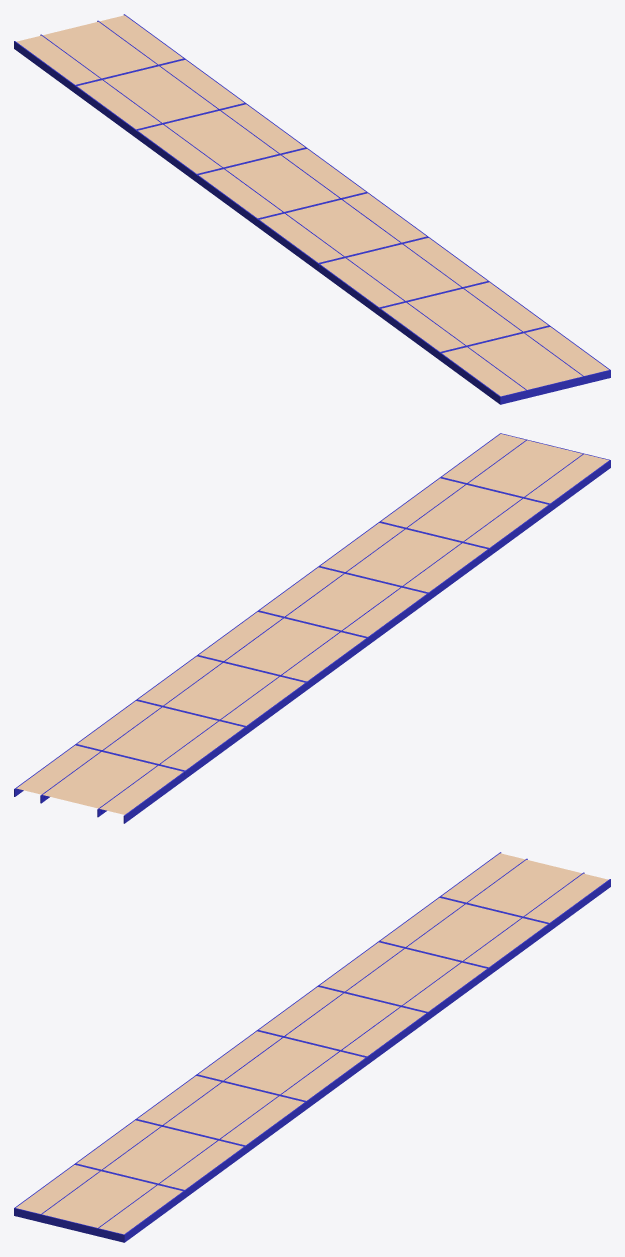
Rendered from bowling-alley-01.dae.
The picture shows the model from 3 angles, top to bottom: view 1: azimuth 30°, elevation 25°; view 2: azimuth 150°, elevation 25°; view 3: azimuth 330°, elevation 25°; orthographic projection.
Parts seen in each view (by area): view 1: group_8 (×3), group_6 (×3), group_10 (×3), group_7 (×3), group_11 (×3), group_9 (×3), group_12 (×3), group_13 (×3), group_3, group_1, group_5, group_2 (+1 smaller); view 2: group_8 (×3), group_13 (×3), group_10 (×3), group_12 (×3), group_6 (×3), group_7 (×3), group_11 (×3), group_9 (×3), group_3, group_4, group_2, group_5; view 3: group_8 (×3), group_6 (×3), group_10 (×3), group_7 (×3), group_11 (×3), group_9 (×3), group_12 (×3), group_13 (×3), group_5, group_1, group_4, group_2 (+1 smaller).
Boxes of the visible parts, x1=… form: group_8 (×3): x1=320, y1=238, x2=487, y2=307; group_6 (×3): x1=16, y1=15, x2=183, y2=84; group_10 (×3): x1=260, y1=193, x2=426, y2=262; group_7 (×3): x1=199, y1=149, x2=365, y2=218; group_11 (×3): x1=138, y1=104, x2=304, y2=173; group_9 (×3): x1=77, y1=60, x2=243, y2=129; group_12 (×3): x1=381, y1=282, x2=547, y2=351; group_13 (×3): x1=442, y1=327, x2=608, y2=396; group_3: x1=14, y1=41, x2=501, y2=404; group_1: x1=501, y1=370, x2=609, y2=404; group_5: x1=123, y1=14, x2=610, y2=377; group_2: x1=97, y1=20, x2=583, y2=376; group_8 (×3): x1=320, y1=523, x2=487, y2=592; group_13 (×3): x1=442, y1=434, x2=608, y2=503; group_10 (×3): x1=260, y1=567, x2=426, y2=636; group_12 (×3): x1=381, y1=478, x2=547, y2=547; group_6 (×3): x1=16, y1=745, x2=183, y2=814; group_7 (×3): x1=199, y1=612, x2=365, y2=681; group_11 (×3): x1=138, y1=656, x2=304, y2=725; group_9 (×3): x1=77, y1=701, x2=243, y2=770; group_3: x1=123, y1=460, x2=610, y2=823; group_4: x1=97, y1=454, x2=583, y2=817; group_2: x1=40, y1=440, x2=526, y2=803; group_5: x1=14, y1=433, x2=500, y2=796; group_8 (×3): x1=137, y1=1076, x2=304, y2=1145; group_6 (×3): x1=441, y1=853, x2=608, y2=922; group_10 (×3): x1=198, y1=1031, x2=364, y2=1100; group_7 (×3): x1=259, y1=987, x2=425, y2=1056; group_11 (×3): x1=320, y1=942, x2=486, y2=1011; group_9 (×3): x1=381, y1=898, x2=547, y2=967; group_12 (×3): x1=77, y1=1120, x2=243, y2=1189; group_13 (×3): x1=16, y1=1165, x2=182, y2=1234; group_5: x1=123, y1=879, x2=610, y2=1242; group_1: x1=15, y1=1208, x2=123, y2=1242; group_4: x1=41, y1=858, x2=527, y2=1214; group_2: x1=98, y1=872, x2=584, y2=1228.
Bounding box in the file's own units: 41.38 × 315 × 2.76.
